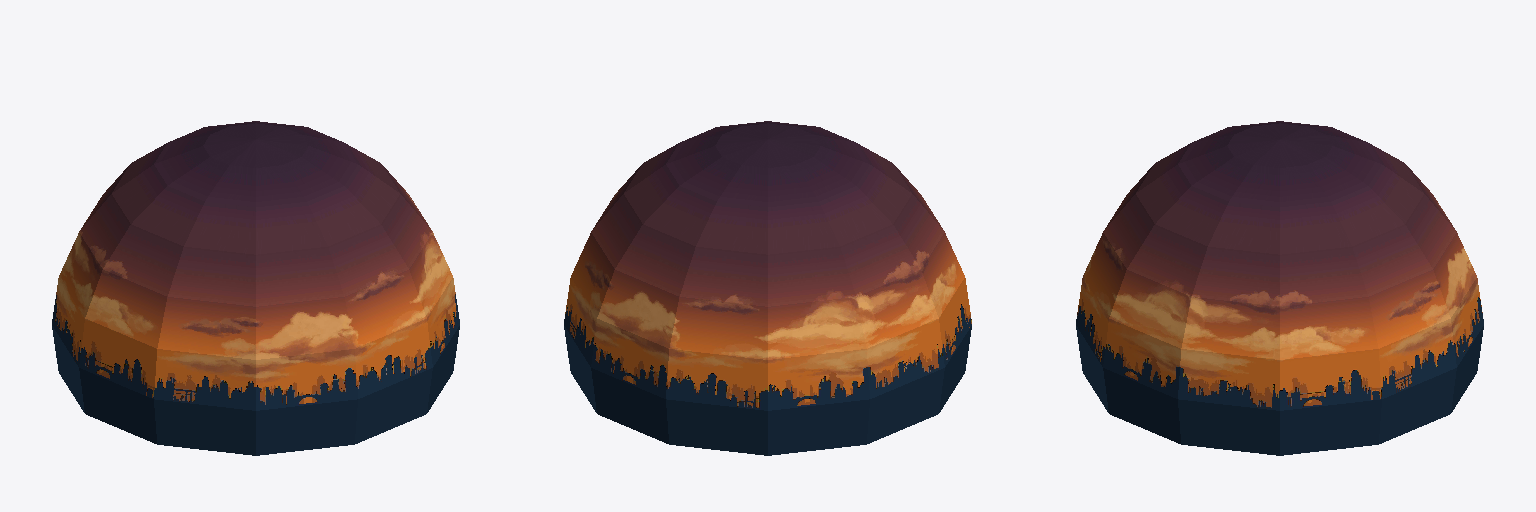
3 views of the same model, side by side, from view 1: azimuth 30°, elevation 25°; view 2: azimuth 150°, elevation 25°; view 3: azimuth 270°, elevation 25° (orthographic).
Parts seen in each view (by area): view 1: Sphere1; view 2: Sphere1; view 3: Sphere1.
Part boxes in pixels (left/top/right/bottom): Sphere1: left=52, top=121, right=459, bottom=455; Sphere1: left=564, top=121, right=971, bottom=455; Sphere1: left=1076, top=121, right=1483, bottom=455.
Size of the model in its own units: 40.72 by 25.63 by 40.72.
1 materials, 1 textured.